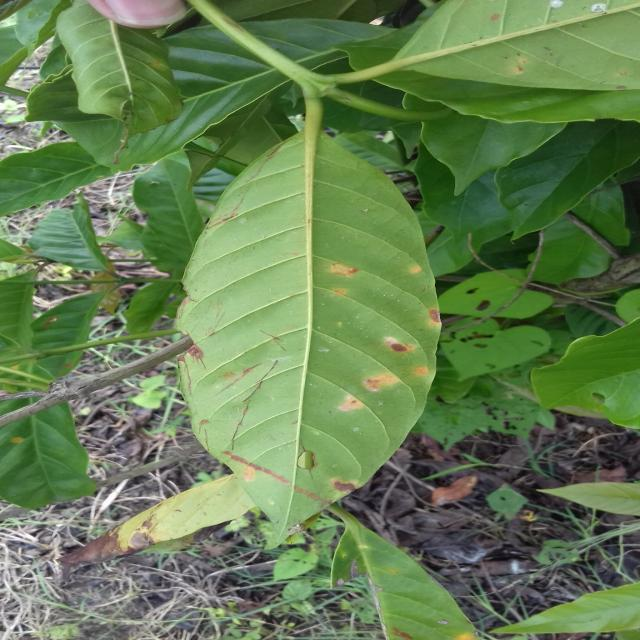Enfermedad-Roya: (176, 130, 442, 548)
